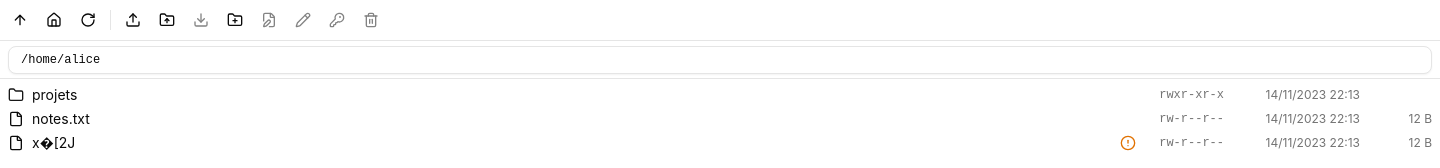
Test case: RemoteBrowser › entre dans un dossier par double-clic et remonte au parent
Double-click the text "projets" at (55, 94), box [32,86,77,103]
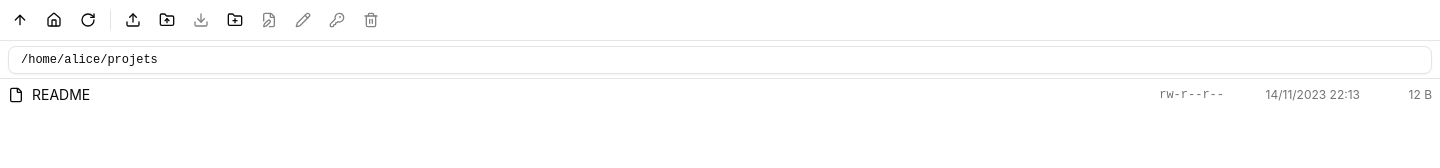
Now the text "README" is shown, box [32,86,90,103]
Click the button named "Dossier parent" at (20, 20), box [4,4,36,36]
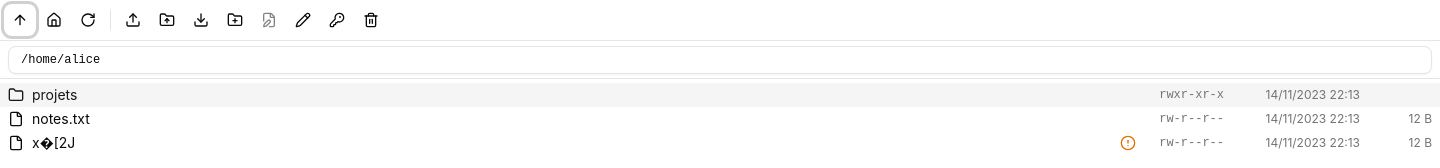
Now the text "notes.txt" is shown, box [32,110,90,127]
